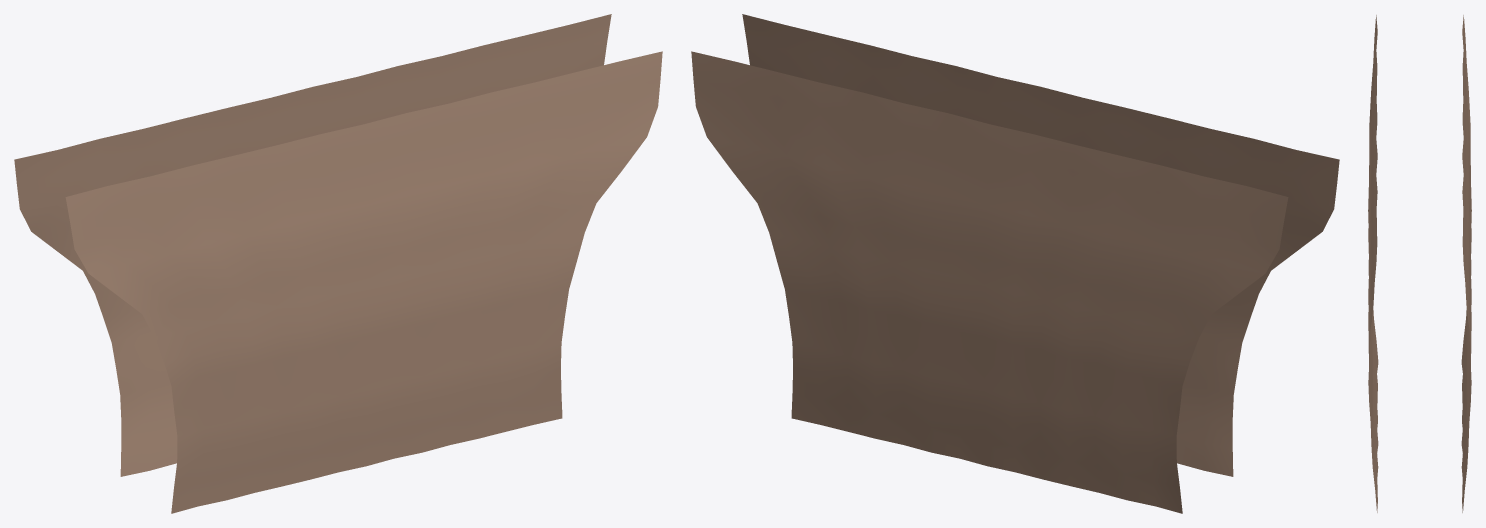
The model's file is fallback.glb.
3 renders of one model, left to right at view 1: azimuth 30°, elevation 25°; view 2: azimuth 150°, elevation 25°; view 3: azimuth 270°, elevation 25°, orthographic. The views are drawn at different scales.
Parts seen in each view (by area): view 1: simulation:clean:manual-tshirt-02.front, simulation:clean:manual-tshirt-02.back; view 2: simulation:clean:manual-tshirt-02.back, simulation:clean:manual-tshirt-02.front; view 3: simulation:clean:manual-tshirt-02.front, simulation:clean:manual-tshirt-02.back.
Part boxes in pixels (x1,y1,x2,y2): simulation:clean:manual-tshirt-02.front: [65, 51, 662, 513]; simulation:clean:manual-tshirt-02.back: [14, 14, 611, 476]; simulation:clean:manual-tshirt-02.back: [691, 51, 1288, 513]; simulation:clean:manual-tshirt-02.front: [742, 14, 1339, 476]; simulation:clean:manual-tshirt-02.front: [1368, 15, 1378, 512]; simulation:clean:manual-tshirt-02.back: [1461, 15, 1471, 512].
Size of the model in its own units: 1.31 by 0.72 by 0.2312.
